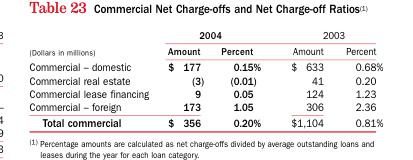table: (28, 28, 382, 128)
table column: (28, 28, 157, 128), (211, 28, 275, 128), (275, 28, 334, 128), (157, 28, 211, 128), (334, 28, 382, 128)
table column header: (28, 28, 382, 58)
table row: (28, 42, 382, 58), (28, 58, 382, 73), (28, 99, 382, 114), (28, 28, 382, 42), (28, 114, 382, 128), (28, 73, 382, 86), (28, 86, 382, 99)
table spanning cell: (28, 28, 157, 58), (157, 28, 275, 42), (275, 28, 382, 42)
